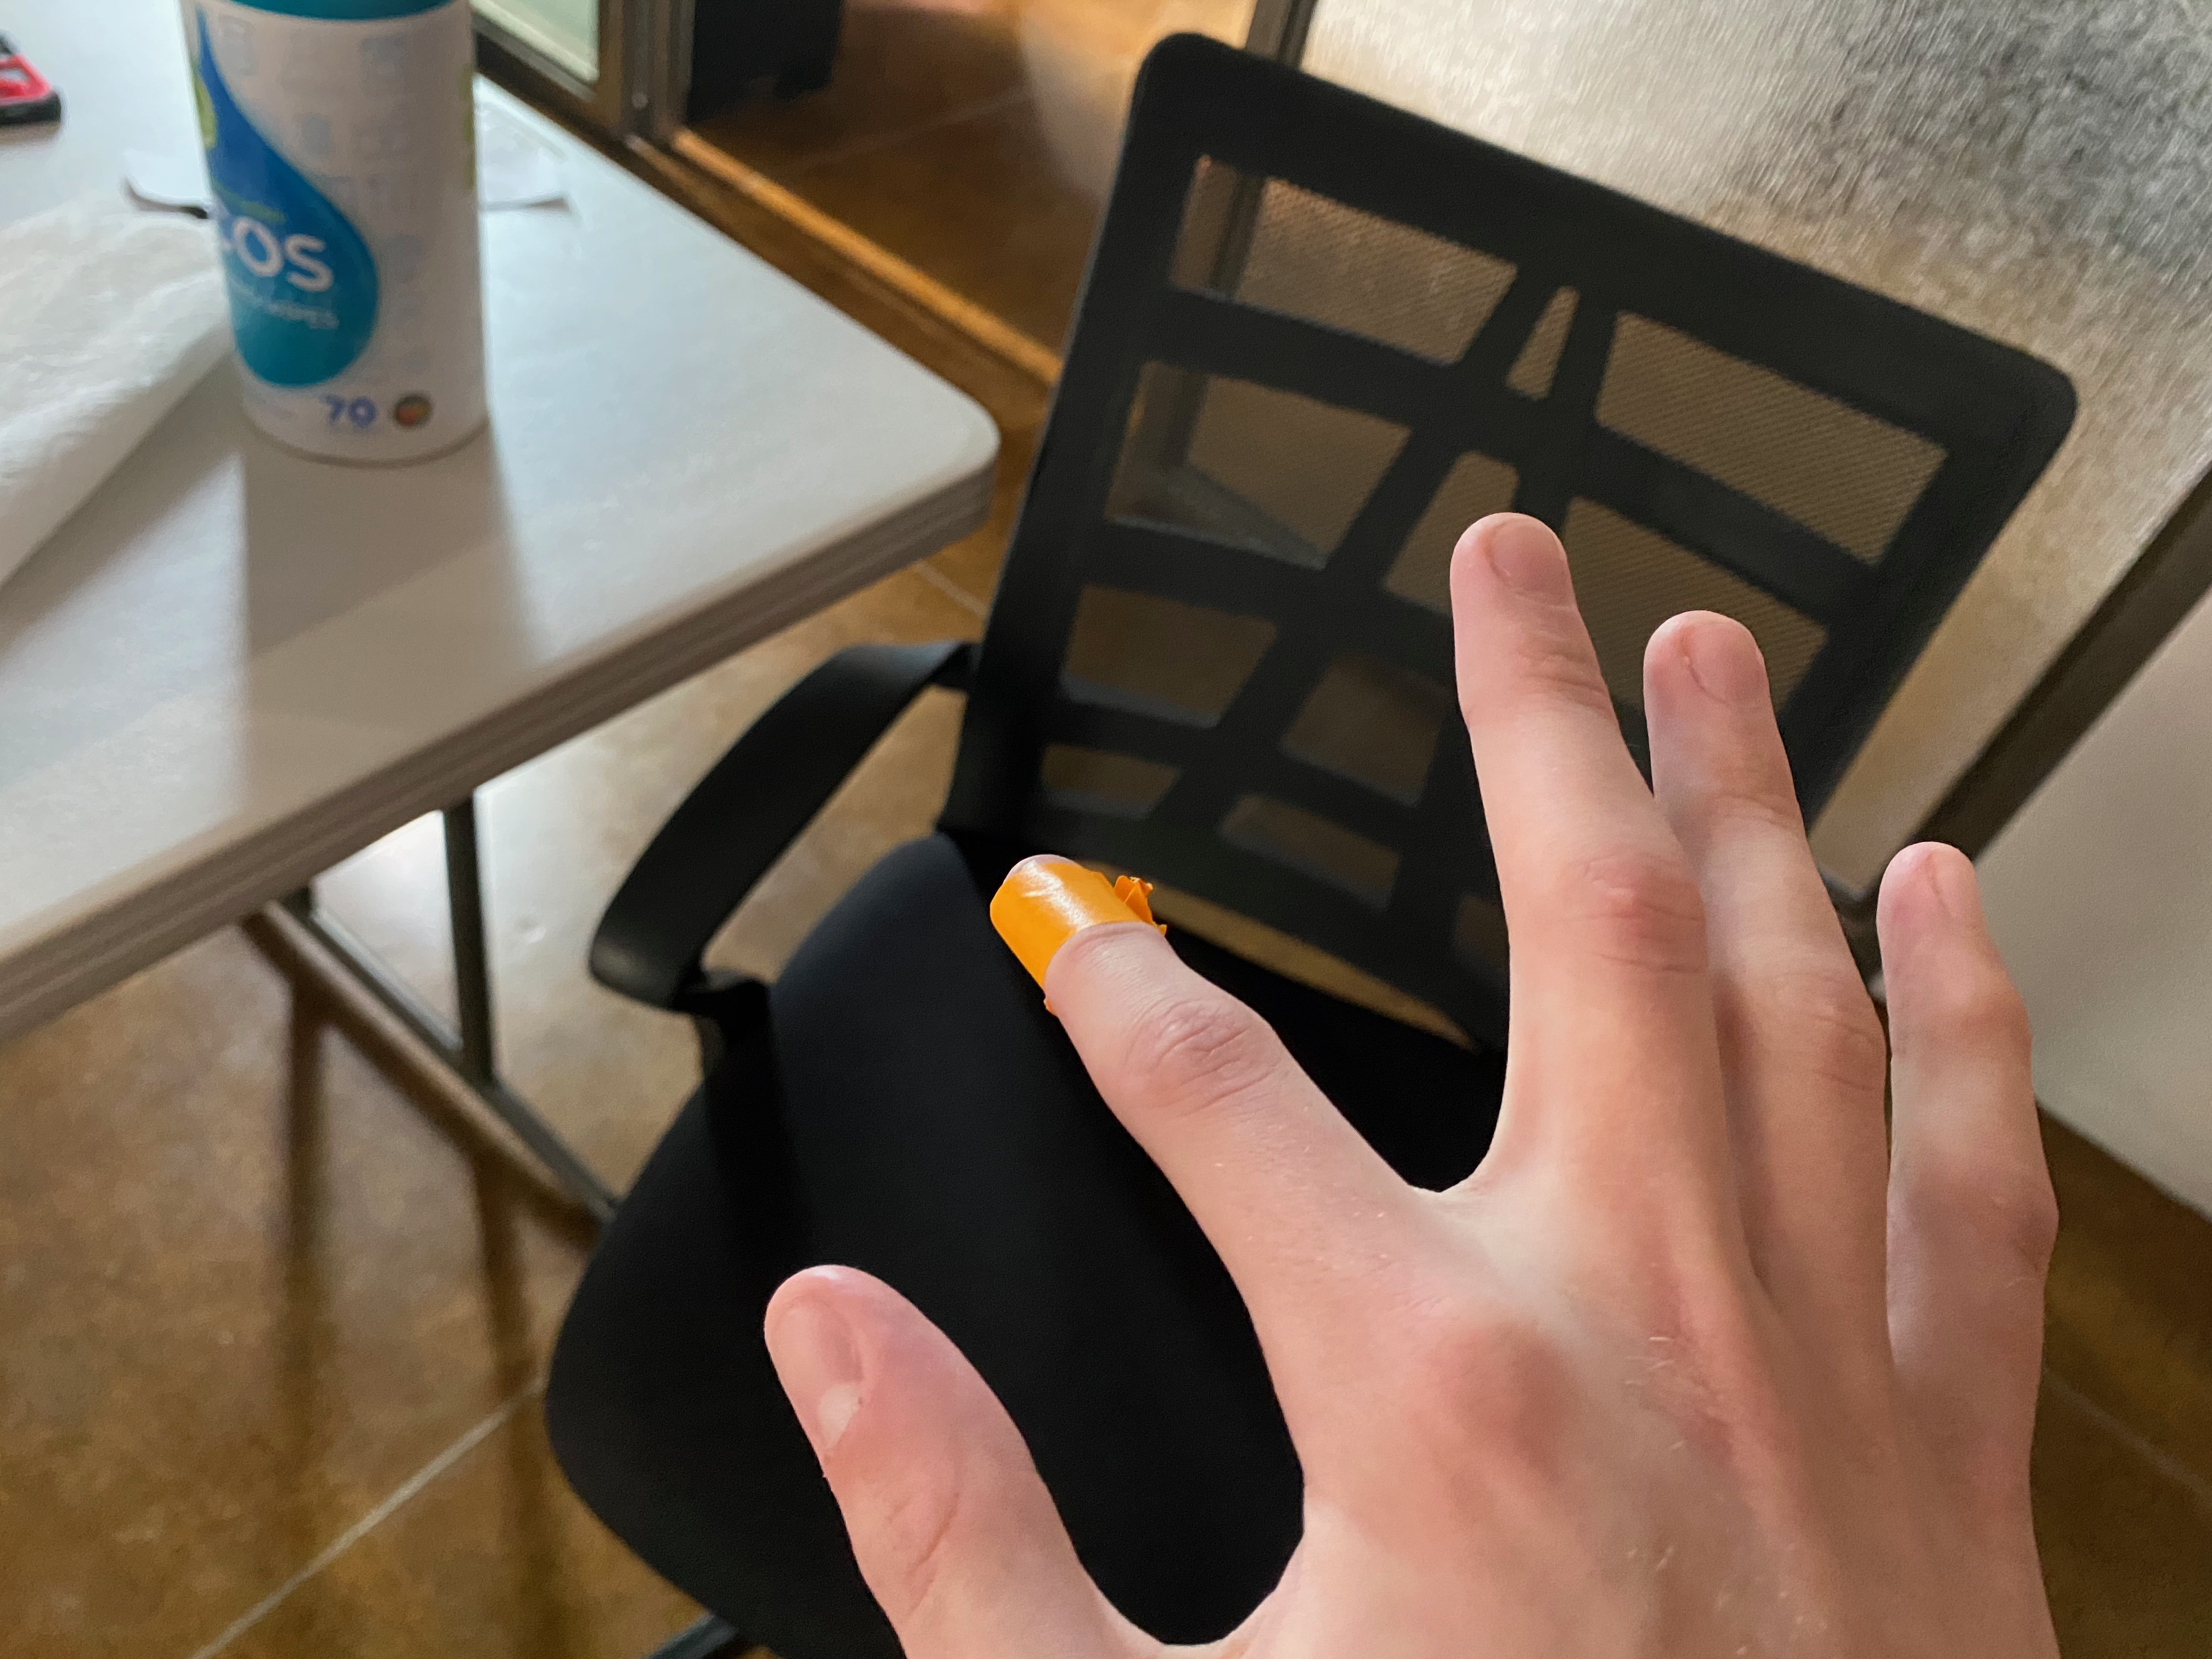fingertip: (972, 828, 1174, 1016)
